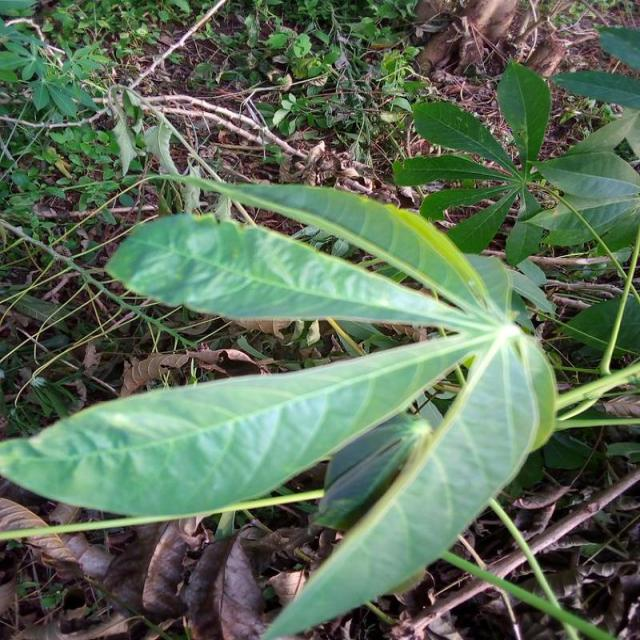cassava leaf: (1, 177, 557, 637)
